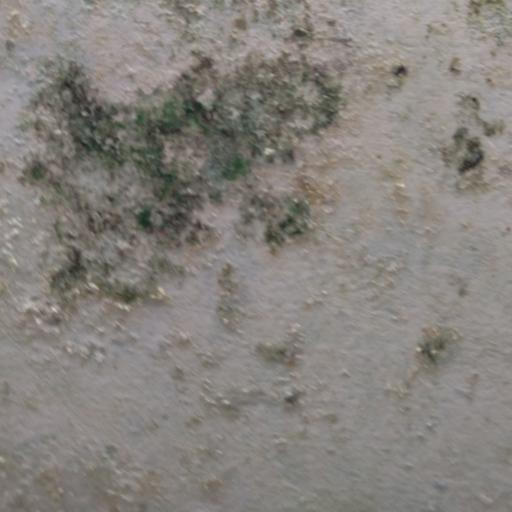algae: (0, 9, 432, 328)
